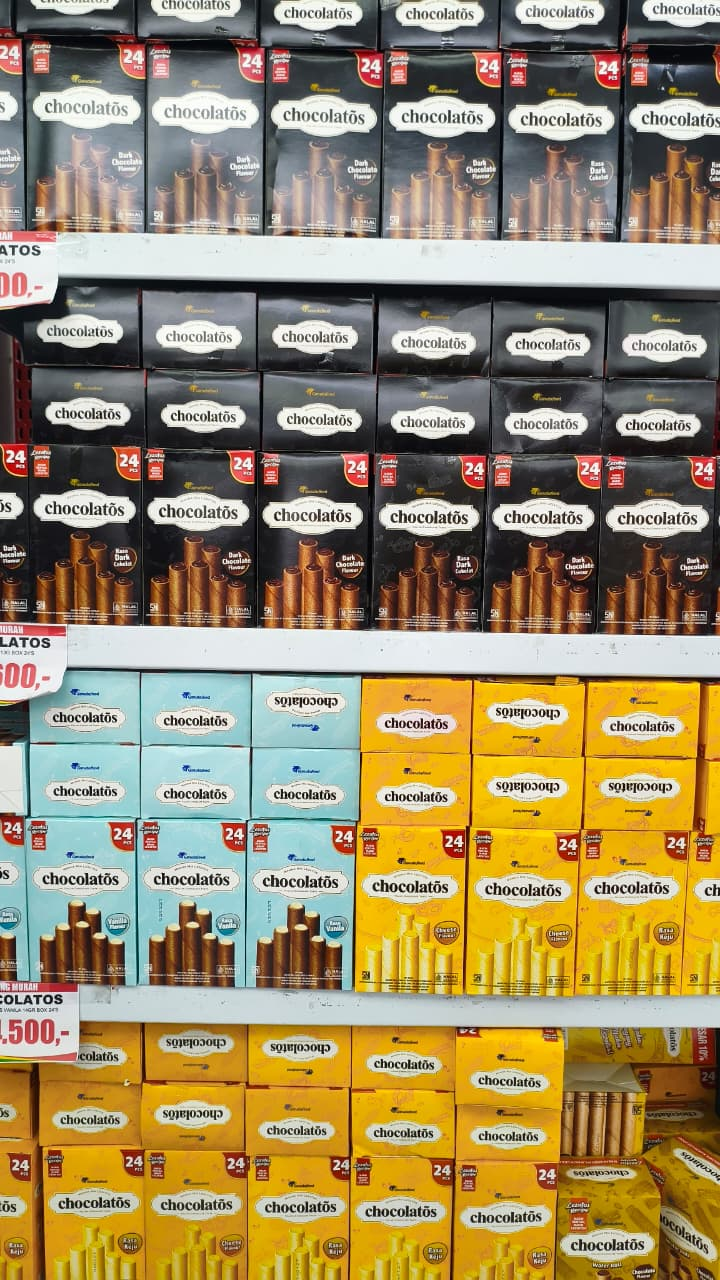Chocolatos: (138, 460, 253, 627), (136, 821, 251, 988), (373, 463, 488, 630), (357, 823, 472, 990), (577, 838, 692, 1005)
